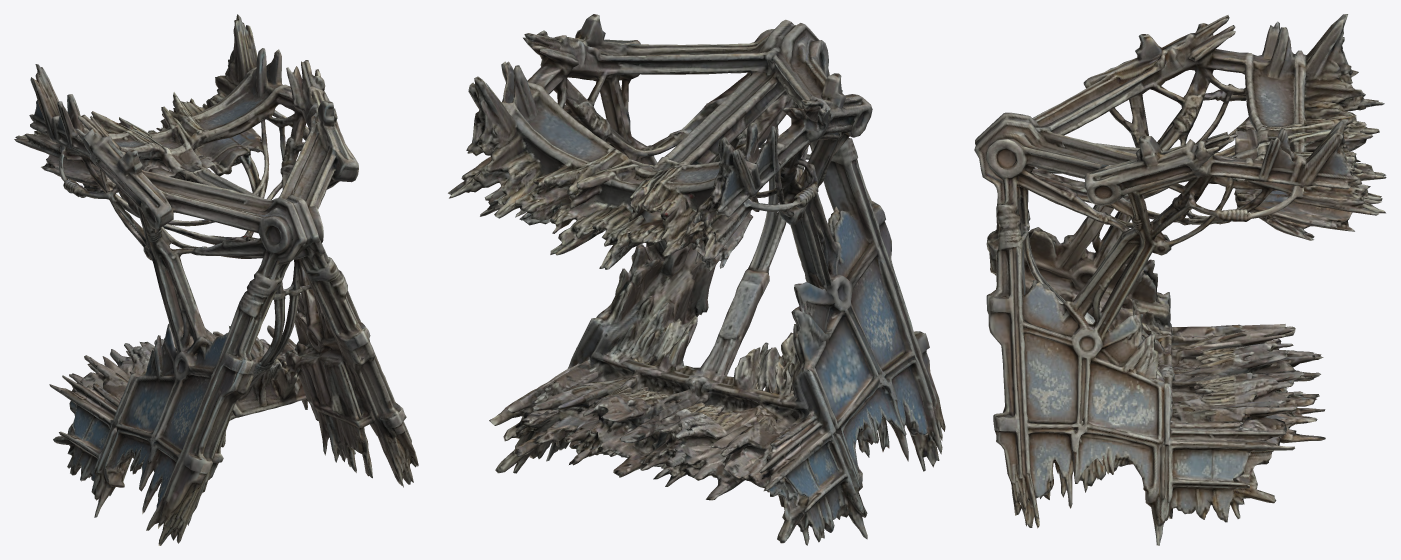
3 views of the same model, side by side, from view 1: azimuth 30°, elevation 25°; view 2: azimuth 150°, elevation 25°; view 3: azimuth 270°, elevation 25° (orthographic). The views are drawn at different scales.
Size of the model in its own units: 0.7387 by 1 by 0.9106.
Materials: 1 (1 with a texture image).
